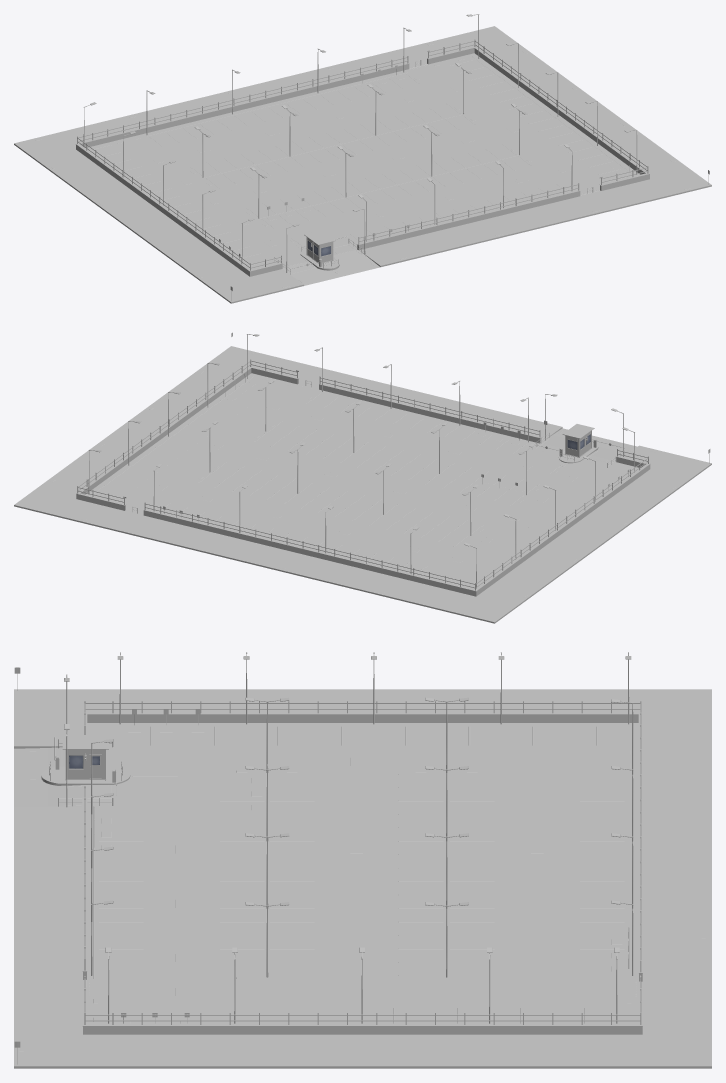
Rendered from Parking_Lot.fbx.
3 renders of one model, top to bottom at view 1: azimuth 30°, elevation 25°; view 2: azimuth 150°, elevation 25°; view 3: azimuth 270°, elevation 25°, orthographic. The views are drawn at different scales.
Parts seen in each view (by area): view 1: landscape, brick_wall_1, brick_wall_2, metallic_barrier_1, brick_wall_3, metallic_barrier_2, parking_lines_2, parking_lines_3, metallic_barrier_3, parking_lines_5, guard building, parking_lines_1; view 2: landscape, brick_wall_1, brick_wall_2, metallic_barrier_1, brick_wall_3, metallic_barrier_2, parking_lines_2, parking_lines_3, metallic_barrier_3, parking_lines_5, guard building, parking_lines_4; view 3: landscape, brick_wall_1, brick_wall_2, metallic_barrier_2, metallic_barrier_1, parking_lines_2, parking_lines_3, guard building, parking_lines_1, parking_lines_6, parking_lines_4, brick_wall_3 (+1 smaller).
Boxes of the visible parts, left/top/right/bottom form: landscape: left=14, top=26, right=711, bottom=303; brick_wall_1: left=76, top=63, right=409, bottom=276; brick_wall_2: left=427, top=46, right=649, bottom=190; metallic_barrier_1: left=77, top=56, right=408, bottom=270; brick_wall_3: left=357, top=190, right=580, bottom=250; metallic_barrier_2: left=428, top=39, right=648, bottom=184; parking_lines_2: left=190, top=103, right=476, bottom=188; parking_lines_3: left=246, top=144, right=532, bottom=228; metallic_barrier_3: left=358, top=183, right=579, bottom=243; parking_lines_5: left=450, top=56, right=635, bottom=181; guard building: left=304, top=230, right=335, bottom=263; parking_lines_1: left=146, top=72, right=420, bottom=146; landscape: left=14, top=346, right=711, bottom=623; brick_wall_1: left=143, top=455, right=650, bottom=596; brick_wall_2: left=76, top=366, right=298, bottom=510; metallic_barrier_1: left=144, top=449, right=648, bottom=590; brick_wall_3: left=319, top=383, right=541, bottom=443; metallic_barrier_2: left=77, top=359, right=297, bottom=504; parking_lines_2: left=197, top=462, right=483, bottom=546; parking_lines_3: left=253, top=421, right=539, bottom=505; metallic_barrier_3: left=319, top=376, right=540, bottom=437; parking_lines_5: left=90, top=376, right=275, bottom=501; guard building: left=562, top=424, right=594, bottom=457; parking_lines_4: left=306, top=391, right=537, bottom=453; landscape: left=14, top=689, right=711, bottom=1068; brick_wall_1: left=82, top=712, right=642, bottom=981; brick_wall_2: left=82, top=987, right=642, bottom=1034; metallic_barrier_2: left=84, top=976, right=641, bottom=1024; metallic_barrier_1: left=84, top=701, right=641, bottom=972; parking_lines_2: left=398, top=773, right=494, bottom=975; parking_lines_3: left=220, top=773, right=314, bottom=975; guard building: left=62, top=735, right=108, bottom=780; parking_lines_1: left=580, top=772, right=629, bottom=977; parking_lines_6: left=119, top=725, right=629, bottom=745; parking_lines_4: left=93, top=806, right=143, bottom=978; brick_wall_3: left=82, top=797, right=87, bottom=979.
Size of the model in its own units: 6528 by 617 by 5108.
